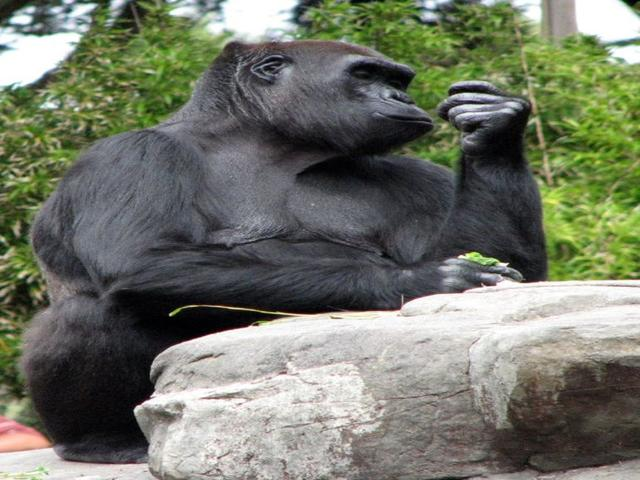monkey: (1, 27, 581, 340)
